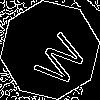W: (25, 25, 90, 91)
